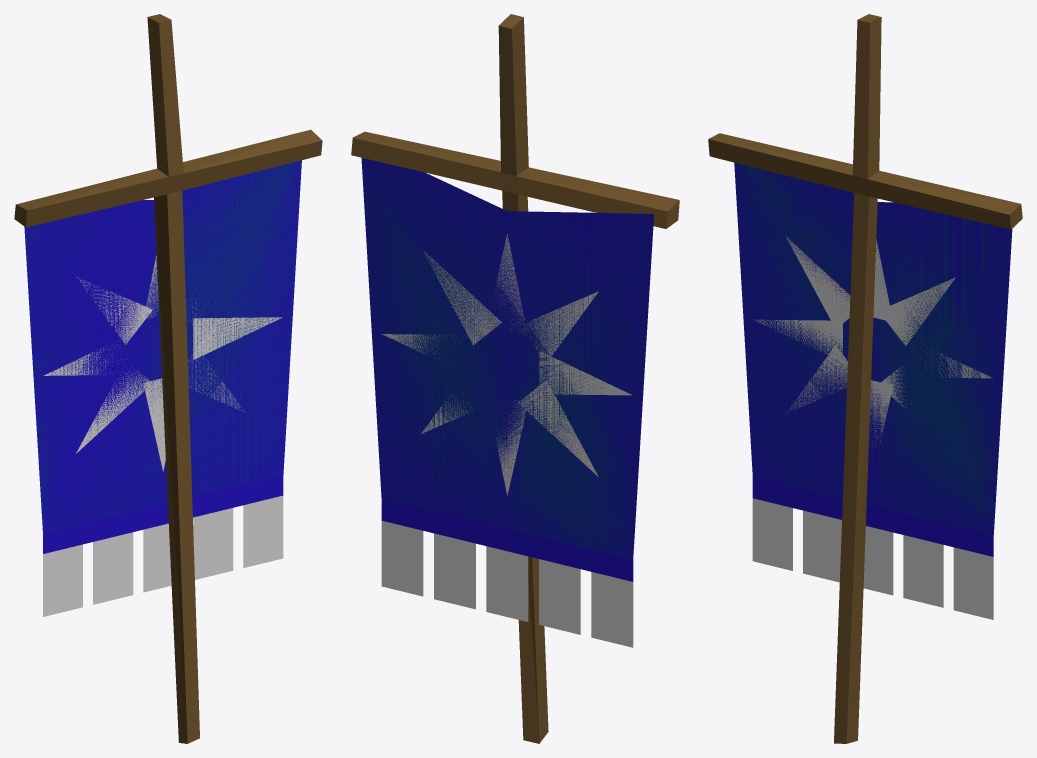
File: obj_standard_10_0.obj
3 renders of one model, left to right at view 1: azimuth 30°, elevation 25°; view 2: azimuth 150°, elevation 25°; view 3: azimuth 330°, elevation 25°, orthographic. The views are drawn at different scales.
Bounding box in the file's own units: 0.9297 × 2.11 × 0.2031.
